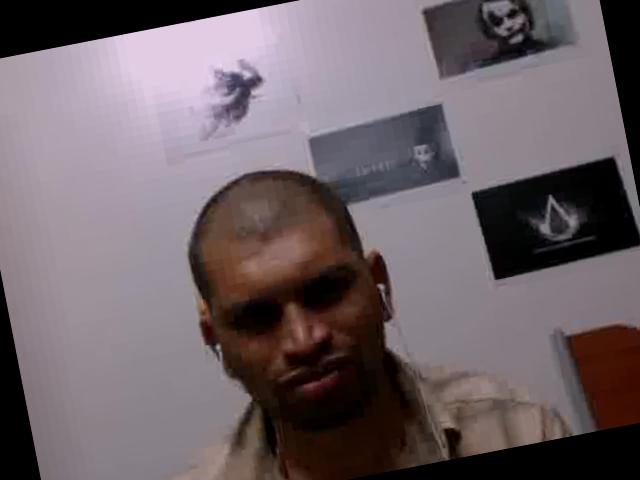bingung: (194, 207, 390, 442)
